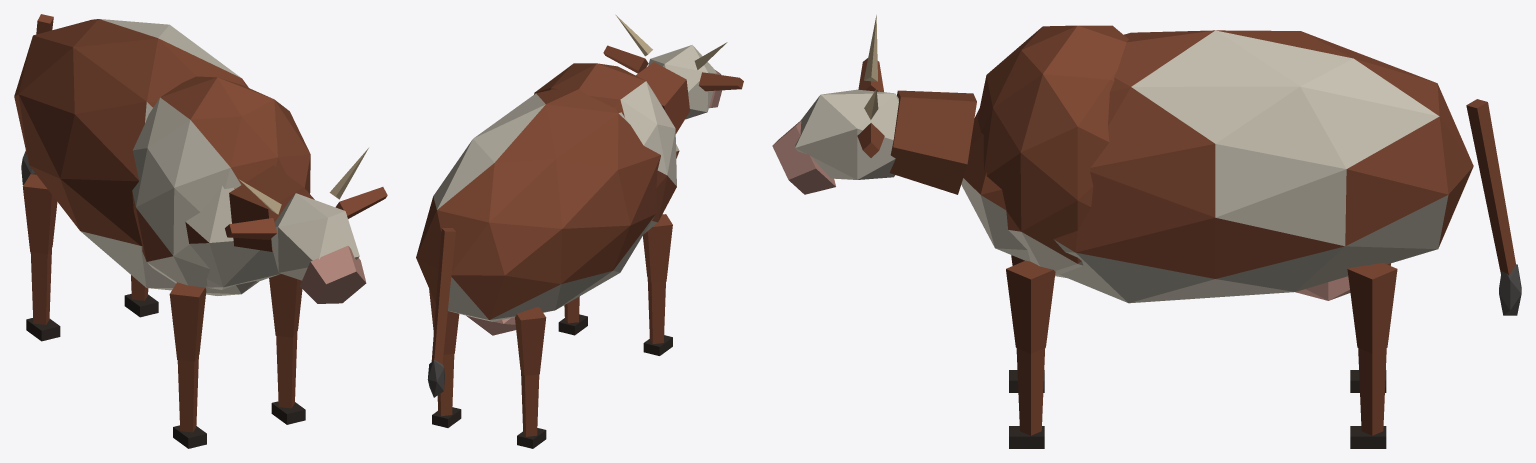
The model's file is cow.glb.
The picture shows the model from 3 angles, left to right: view 1: azimuth 30°, elevation 25°; view 2: azimuth 150°, elevation 25°; view 3: azimuth 270°, elevation 25°; orthographic projection. The views are drawn at different scales.
Parts seen in each view (by area): view 1: cow; view 2: cow; view 3: cow.
Part boxes in pixels (x1=…): cow: x1=14, y1=14, x2=387, y2=448; cow: x1=416, y1=14, x2=743, y2=448; cow: x1=772, y1=15, x2=1521, y2=448.
Bounding box in the file's own units: 0.9207 × 1.56 × 2.72.
